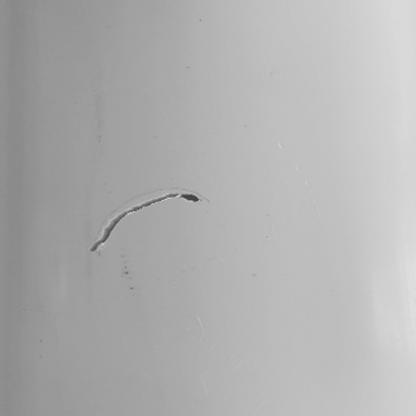fengxi: (85, 188, 203, 255)
